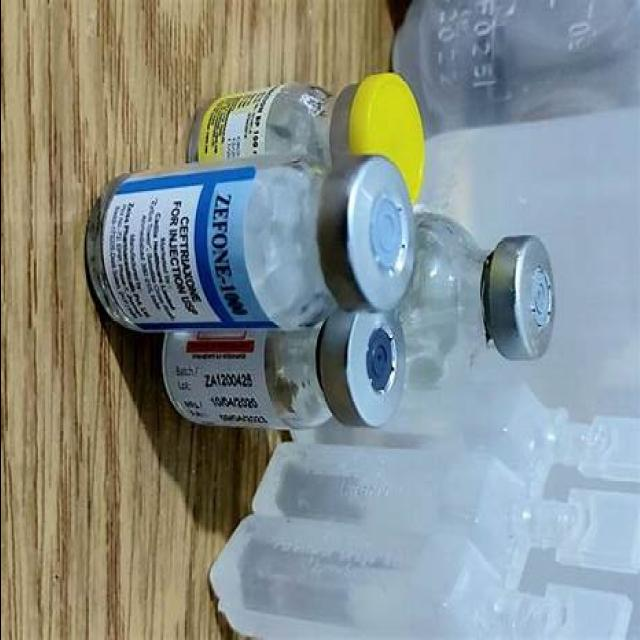vial: (338, 151, 416, 313), (341, 324, 405, 424), (372, 79, 420, 197), (498, 241, 550, 349)
